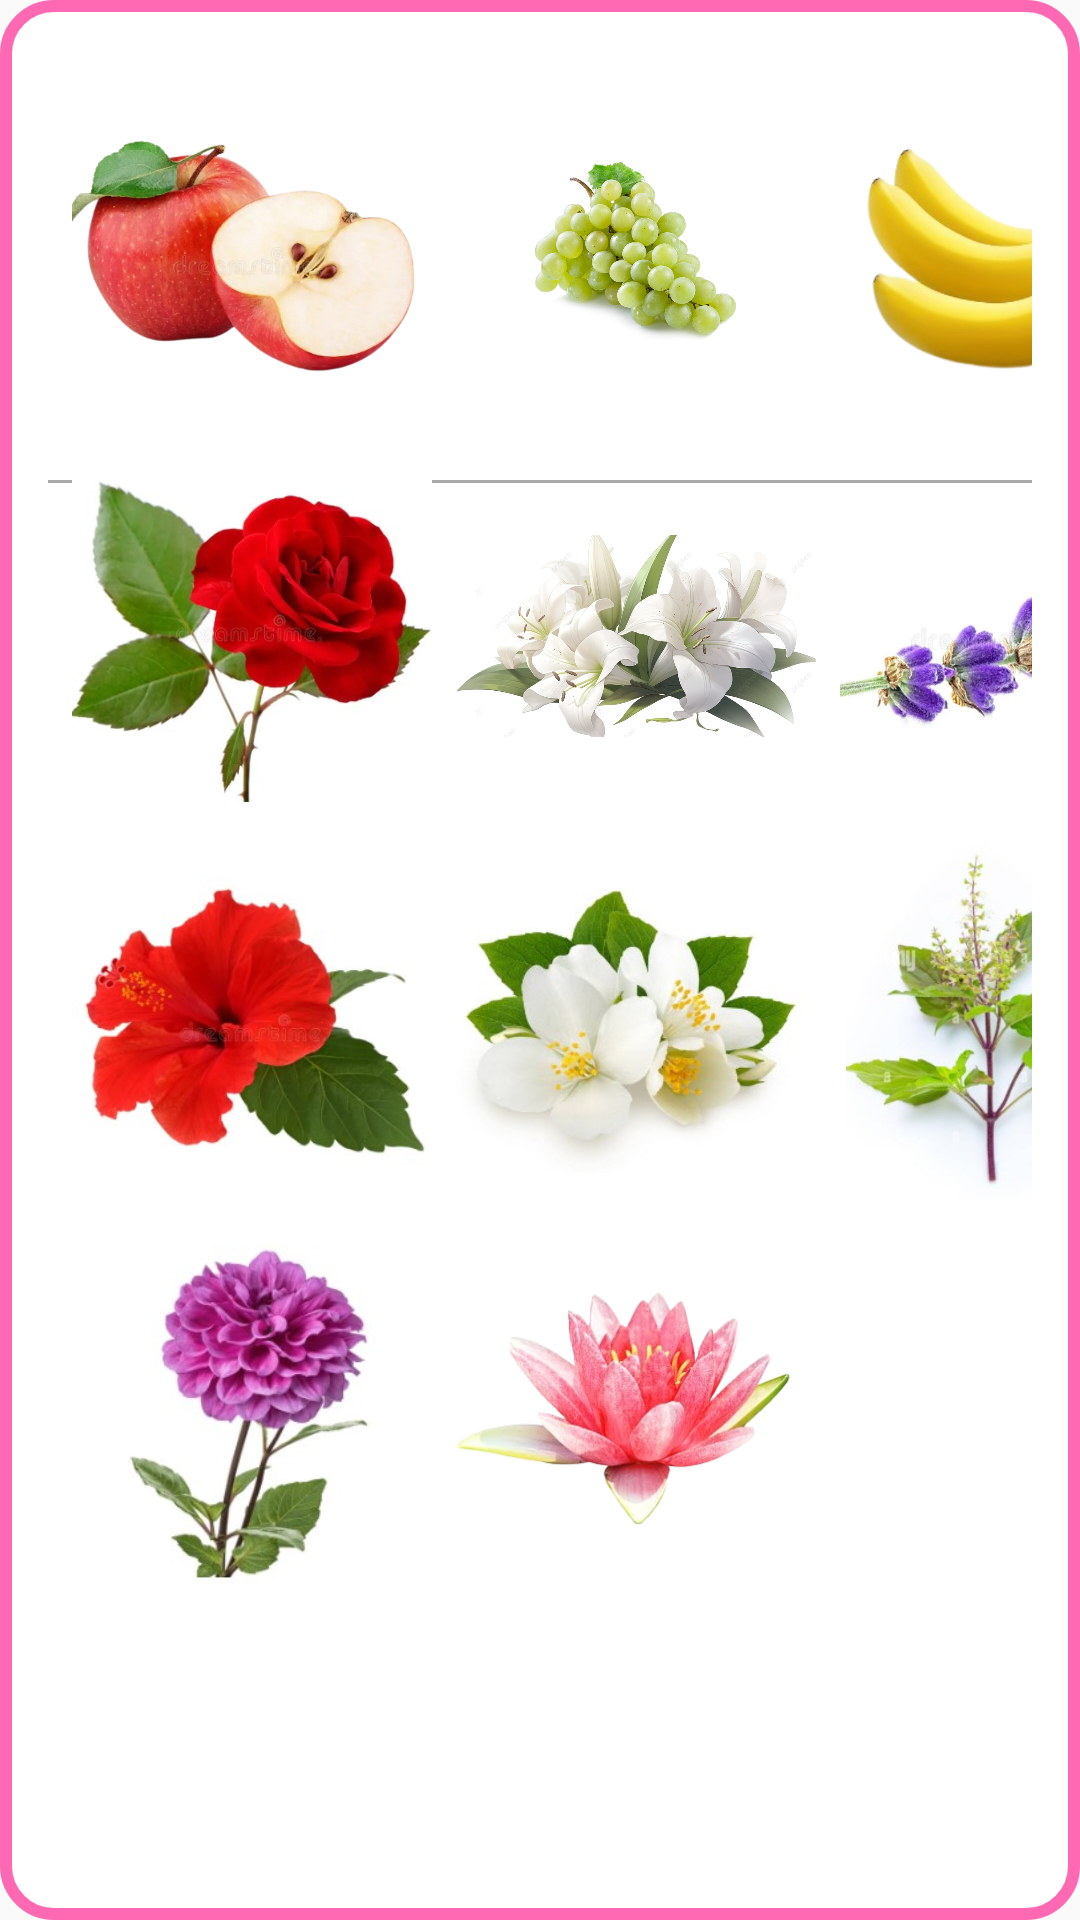

Icons on this 1080px x 1920px Android screen, each with the point to tap as [x,y]:
Apple: [243,256]
Dahlia: [249,1414]
Grapes: [635,250]
Hibiscus: [255,1021]
Jasmine: [630,1021]
Lily: [636,636]
Lotus: [623,1408]
Rose: [251,642]
